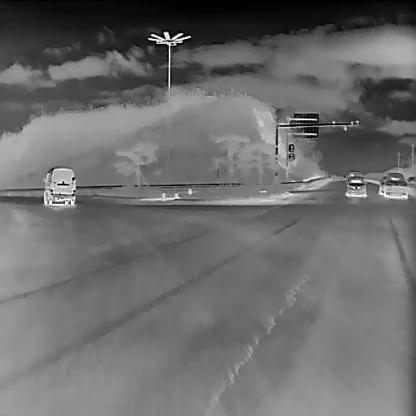car: (42, 166, 75, 206), (384, 172, 408, 198), (344, 170, 366, 198), (378, 176, 386, 196)
